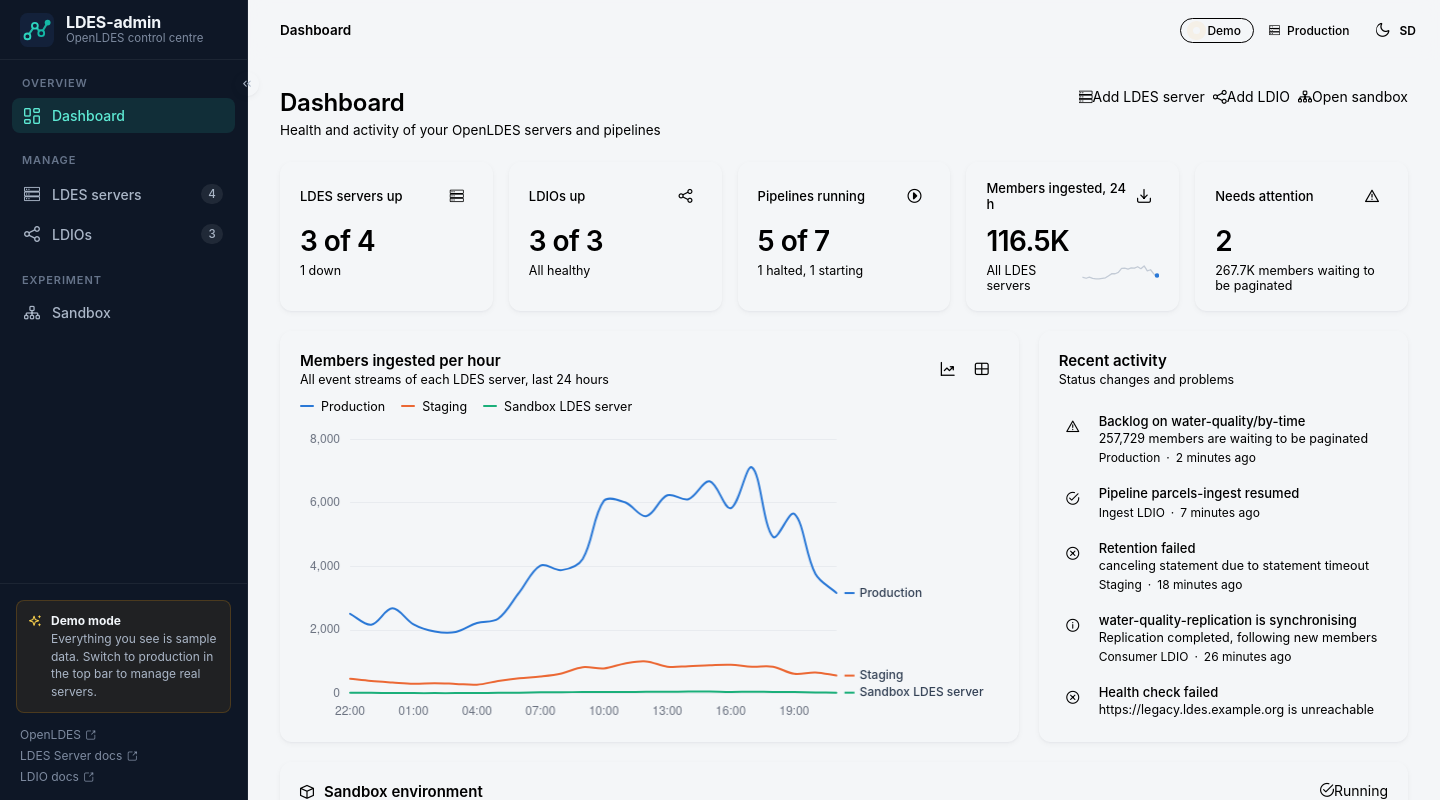
it: navigation › shows the throughput chart also as a table
Click the icon named "Table".
click(982, 369)  # box [975,362,989,376]
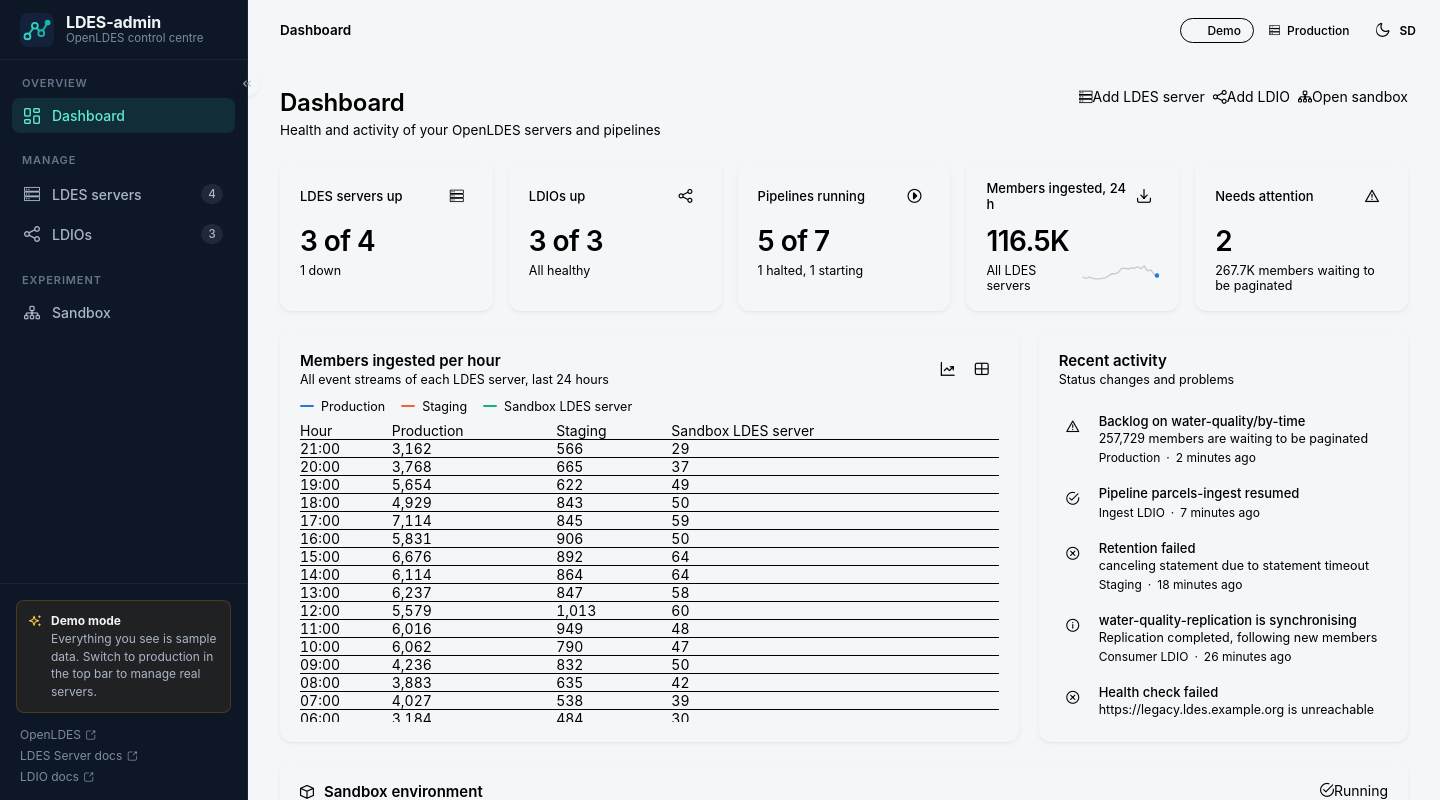
Result: the text "Production" is shown at [392,422,464,439]
Result: the text "Staging" is shown at [556,422,606,439]
